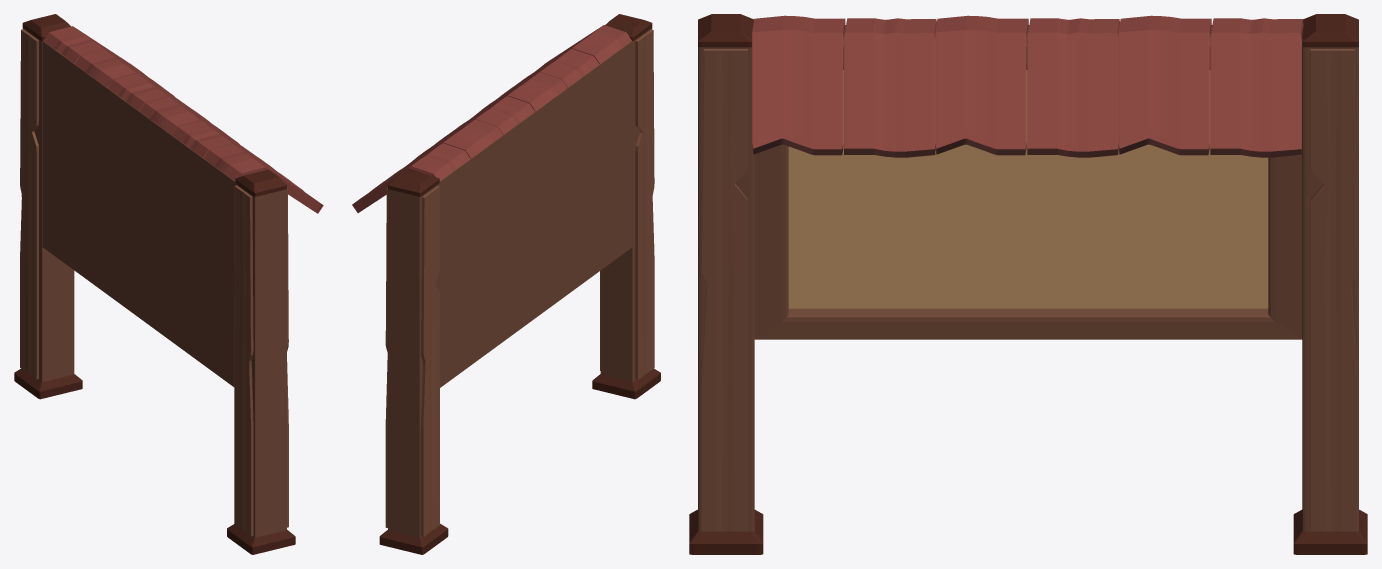
File: NoticeBoard.fbx
The picture shows the model from 3 angles, left to right: view 1: azimuth 30°, elevation 25°; view 2: azimuth 150°, elevation 25°; view 3: azimuth 270°, elevation 25°; orthographic projection. The views are drawn at different scales.
Visible parts, largest first — view 1: NoticeBoard, NoticeBoardRoof; view 2: NoticeBoard, NoticeBoardRoof; view 3: NoticeBoard, NoticeBoardRoof.
Part boxes in pixels (bbox=[...]): NoticeBoard: bbox=[14, 14, 295, 554]; NoticeBoardRoof: bbox=[43, 26, 323, 213]; NoticeBoard: bbox=[379, 14, 660, 554]; NoticeBoardRoof: bbox=[352, 25, 631, 212]; NoticeBoard: bbox=[689, 14, 1367, 554]; NoticeBoardRoof: bbox=[752, 15, 1303, 157].
Bounding box in the file's own units: 0.0752 × 0.0174 × 0.0634.
